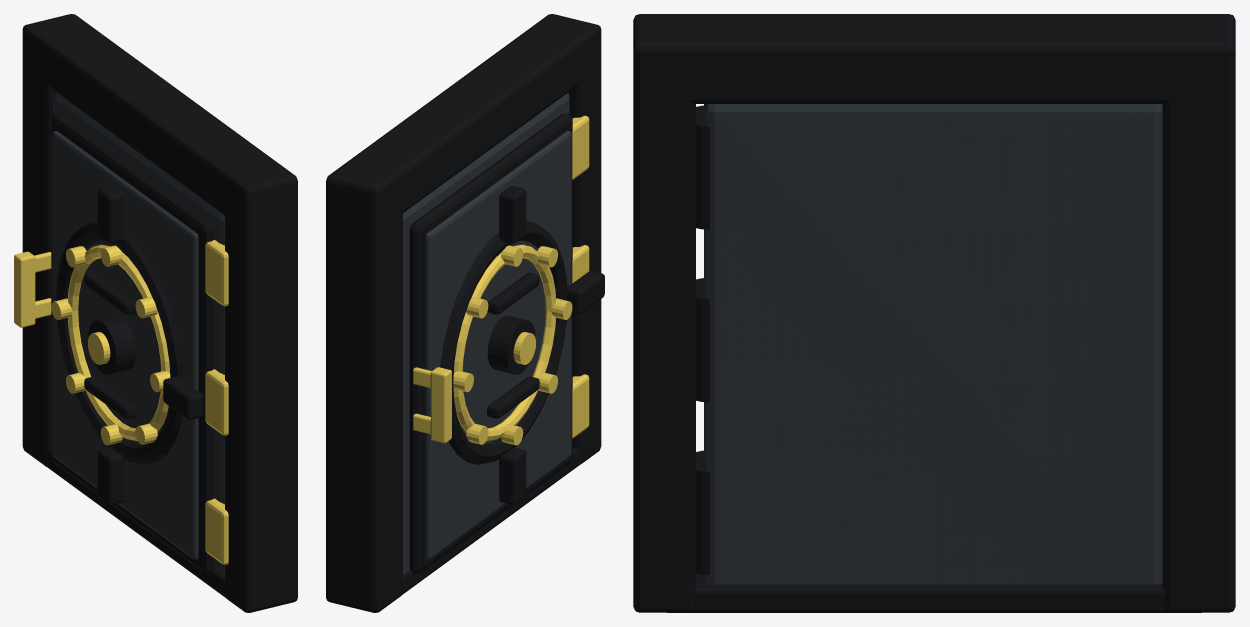
The model's file is VaultDoor.fbx.
3 renders of one model, left to right at view 1: azimuth 30°, elevation 25°; view 2: azimuth 150°, elevation 25°; view 3: azimuth 270°, elevation 25°, orthographic. The views are drawn at different scales.
Visible parts, largest first — view 1: VaultDoor_InnerPanel, VaultDoor_Frame_Left, VaultDoor_Frame_Top, VaultDoor_Frame_Right, VaultDoor_Face, VaultDoor_Lock_Ring_Outer, VaultDoor_Body, VaultDoor_Lock_Ring_Inner, VaultDoor_Handle, VaultDoor_Threshold, VaultDoor_Wheel_Hub, VaultDoor_Bolt_Top (+8 smaller); view 2: VaultDoor_Frame_Right, VaultDoor_InnerPanel, VaultDoor_Frame_Top, VaultDoor_Face, VaultDoor_Frame_Left, VaultDoor_Lock_Ring_Outer, VaultDoor_Body, VaultDoor_Lock_Ring_Inner, VaultDoor_Handle, VaultDoor_Threshold, VaultDoor_Wheel_Hub, VaultDoor_Bolt_Top (+8 smaller); view 3: VaultDoor_Body, VaultDoor_Frame_Top, VaultDoor_Frame_Right, VaultDoor_Frame_Left, VaultDoor_Threshold, VaultDoor_Hinge_02, VaultDoor_Hinge_00, VaultDoor_Hinge_01.
Part boxes in pixels (<box>): VaultDoor_InnerPanel: <box>52,131,198,559</box>; VaultDoor_Frame_Left: <box>225,203,297,612</box>; VaultDoor_Frame_Top: <box>22,14,297,228</box>; VaultDoor_Frame_Right: <box>22,52,55,467</box>; VaultDoor_Face: <box>51,113,214,573</box>; VaultDoor_Lock_Ring_Outer: <box>56,221,184,464</box>; VaultDoor_Body: <box>54,93,224,575</box>; VaultDoor_Lock_Ring_Inner: <box>67,244,170,440</box>; VaultDoor_Handle: <box>14,251,51,327</box>; VaultDoor_Threshold: <box>48,451,226,598</box>; VaultDoor_Wheel_Hub: <box>88,315,136,374</box>; VaultDoor_Bolt_Top: <box>97,186,124,243</box>; VaultDoor_Frame_Right: <box>326,199,402,612</box>; VaultDoor_InnerPanel: <box>425,131,571,559</box>; VaultDoor_Frame_Top: <box>326,14,601,228</box>; VaultDoor_Face: <box>409,113,572,573</box>; VaultDoor_Frame_Left: <box>568,53,601,464</box>; VaultDoor_Lock_Ring_Outer: <box>440,221,567,464</box>; VaultDoor_Body: <box>403,93,569,574</box>; VaultDoor_Lock_Ring_Inner: <box>453,244,556,440</box>; VaultDoor_Handle: <box>413,367,451,443</box>; VaultDoor_Threshold: <box>401,447,579,595</box>; VaultDoor_Wheel_Hub: <box>487,315,535,374</box>; VaultDoor_Bolt_Top: <box>499,186,526,243</box>; VaultDoor_Body: <box>704,104,1162,584</box>; VaultDoor_Frame_Top: <box>633,14,1235,103</box>; VaultDoor_Frame_Right: <box>1162,80,1235,612</box>; VaultDoor_Frame_Left: <box>633,80,695,612</box>; VaultDoor_Threshold: <box>667,573,1201,612</box>; VaultDoor_Hinge_02: <box>696,105,709,229</box>; VaultDoor_Hinge_00: <box>696,450,709,574</box>; VaultDoor_Hinge_01: <box>696,278,709,402</box>.
Size of the model in its own units: 71.5 by 320 by 307.
